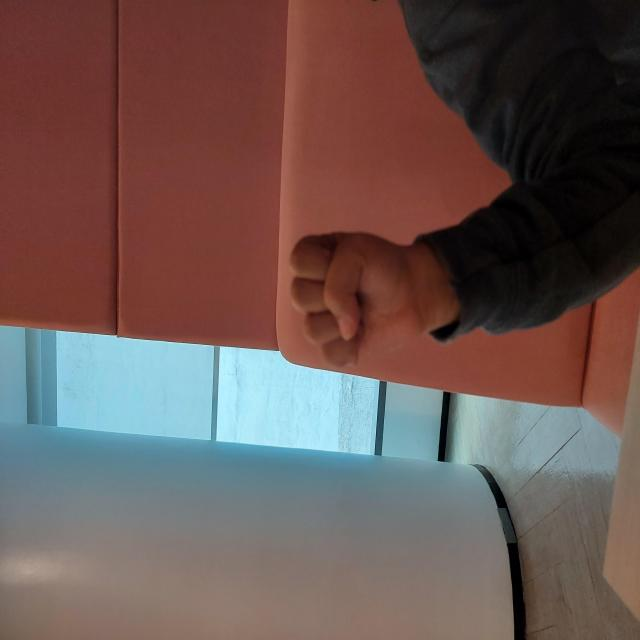S: (261, 284, 417, 428)
